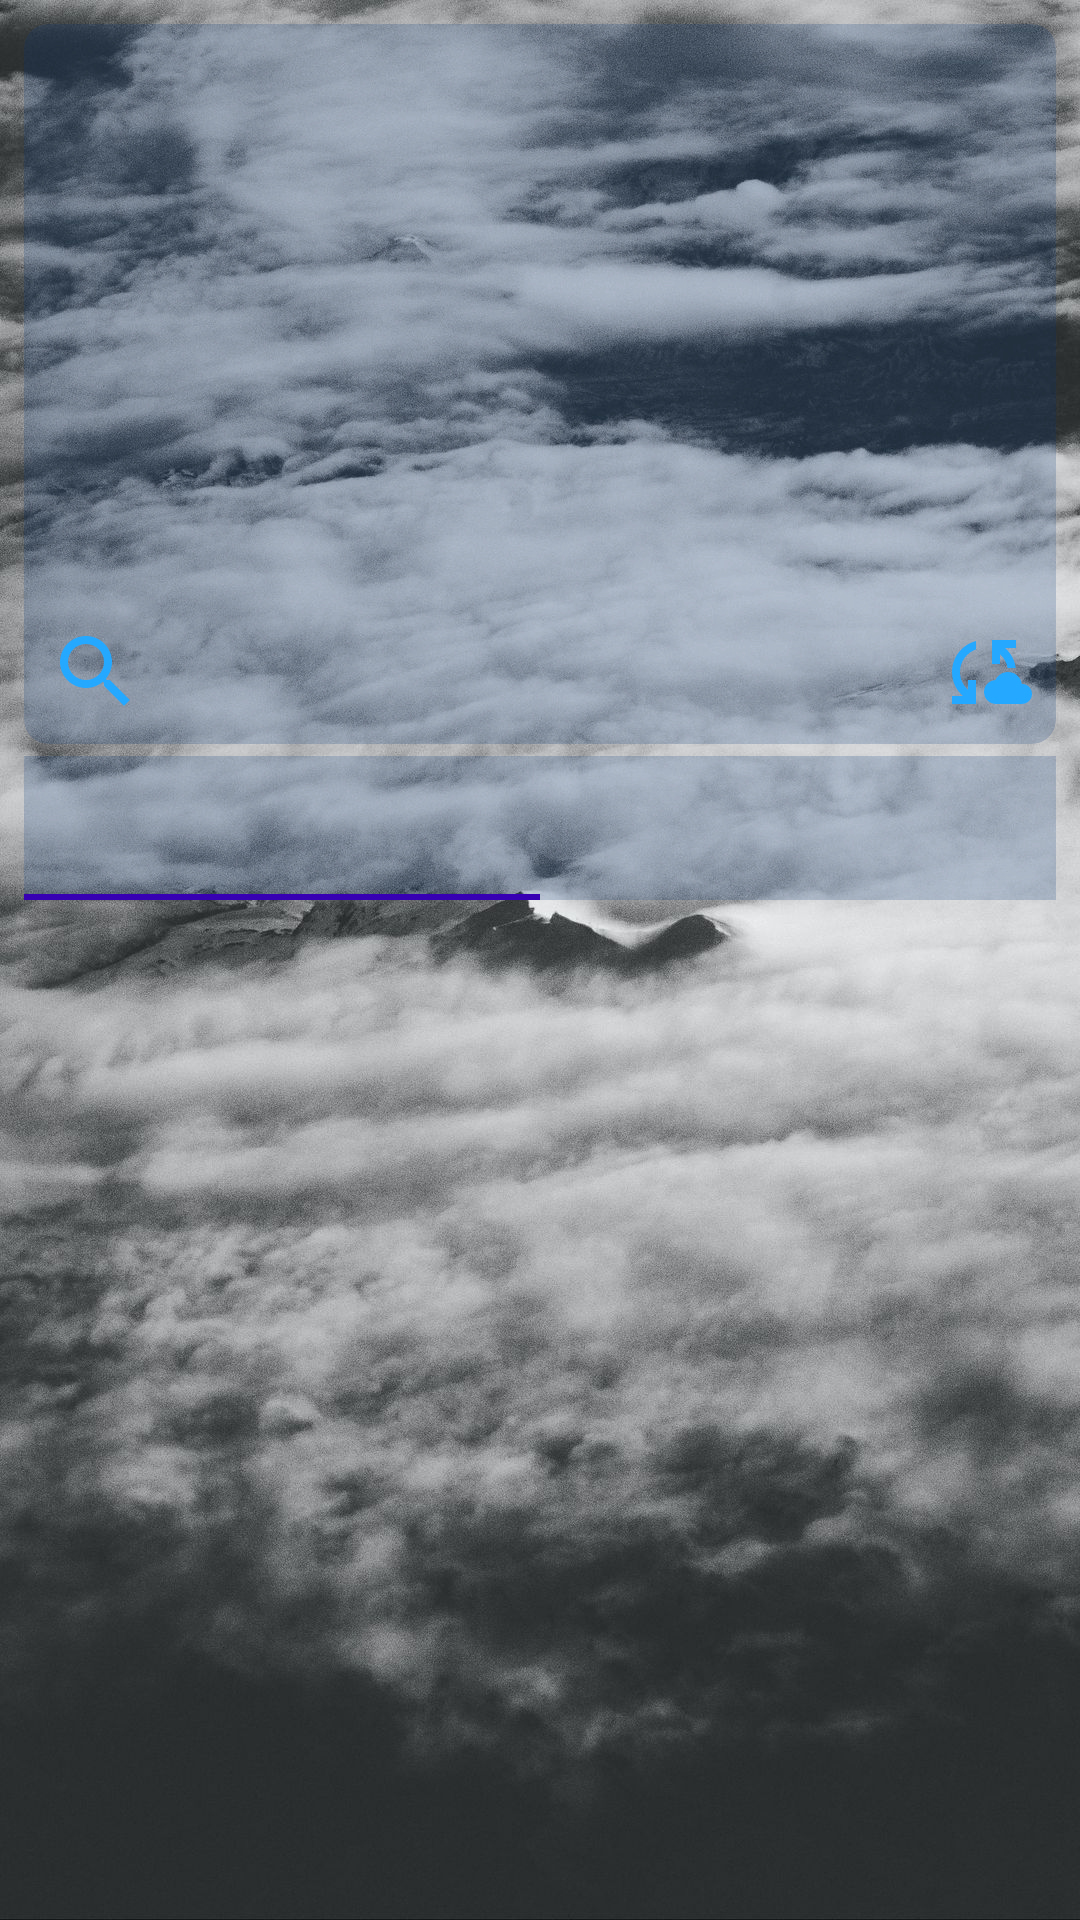

Icons on this 1080px x 1920px Android screen, each with the point to tap as (x,y):
search: (94,668)
sync: (984,680)
